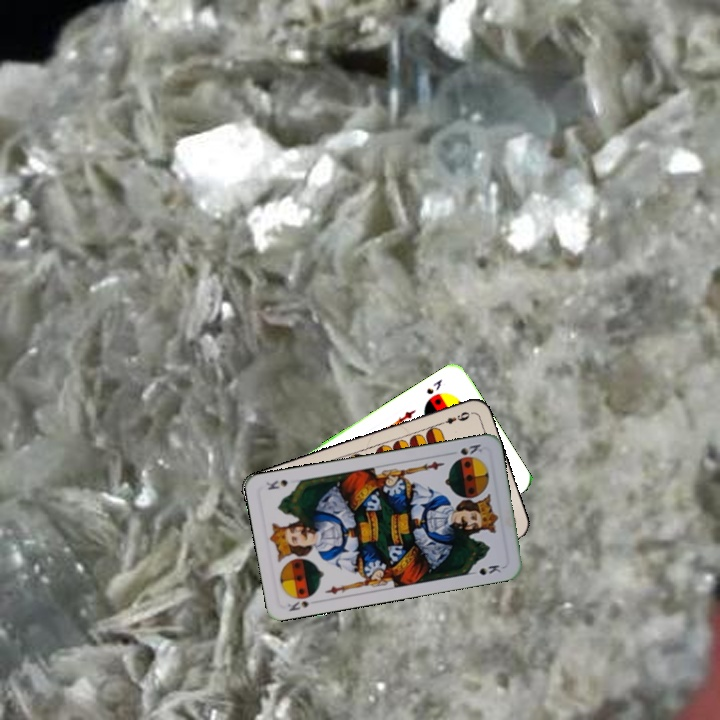E9: (434, 408, 472, 428)
SK: (452, 440, 486, 462), (422, 375, 445, 397), (283, 597, 312, 614)
